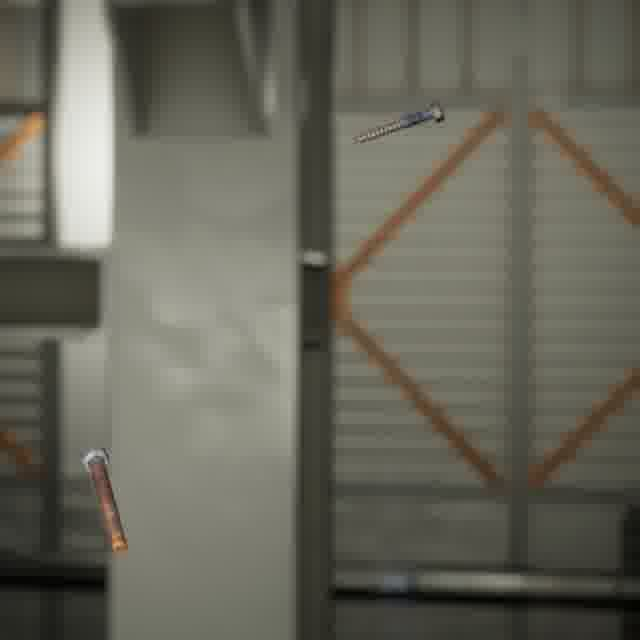bolt: (76, 441, 131, 560), (347, 95, 448, 148)
